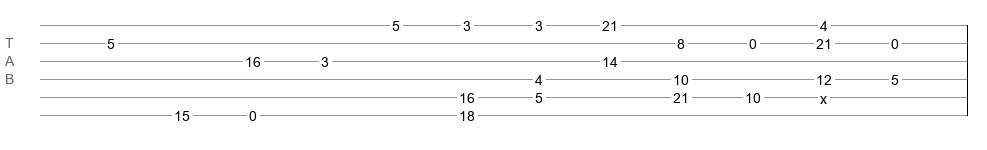0: (249, 108, 257, 118), (749, 36, 757, 46), (891, 36, 899, 46)
10: (673, 72, 689, 82), (745, 90, 761, 100)
12: (816, 72, 832, 82)
14: (602, 54, 618, 64)
15: (174, 108, 190, 118)
16: (245, 54, 261, 64), (459, 90, 475, 100)
18: (459, 108, 475, 118)
21: (602, 18, 618, 28), (673, 90, 689, 100), (816, 36, 832, 46)
3: (321, 54, 329, 64), (463, 18, 471, 28), (535, 18, 543, 28)
4: (535, 72, 543, 82), (820, 18, 828, 28)
5: (107, 36, 115, 46), (392, 18, 400, 28), (535, 90, 543, 100), (891, 72, 899, 82)
8: (677, 36, 685, 46)
x: (820, 91, 827, 99)
